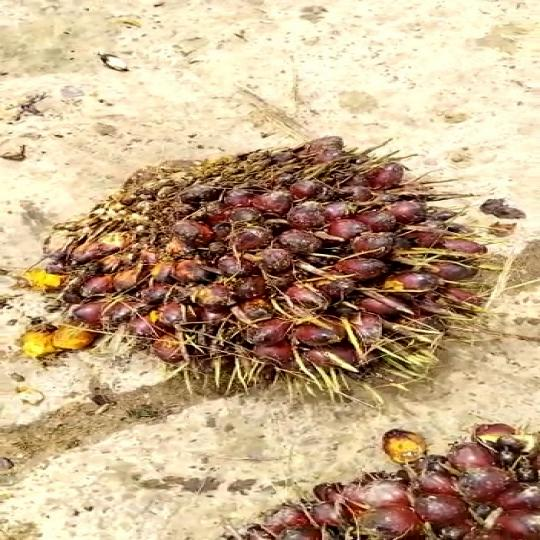kurang masak: (29, 111, 479, 406)
